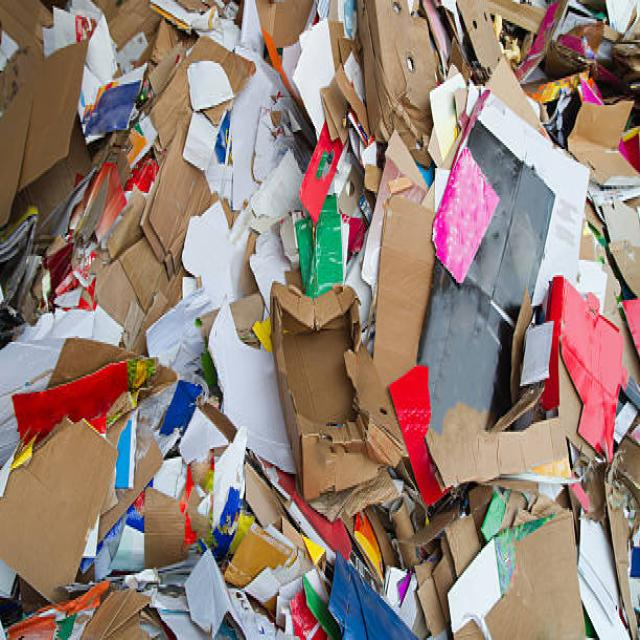cardboard: (9, 342, 267, 640), (413, 426, 588, 640), (266, 281, 402, 510), (10, 48, 100, 193), (356, 2, 444, 145), (162, 57, 227, 172), (571, 90, 630, 193), (141, 176, 184, 279)
paper: (442, 126, 492, 283)
